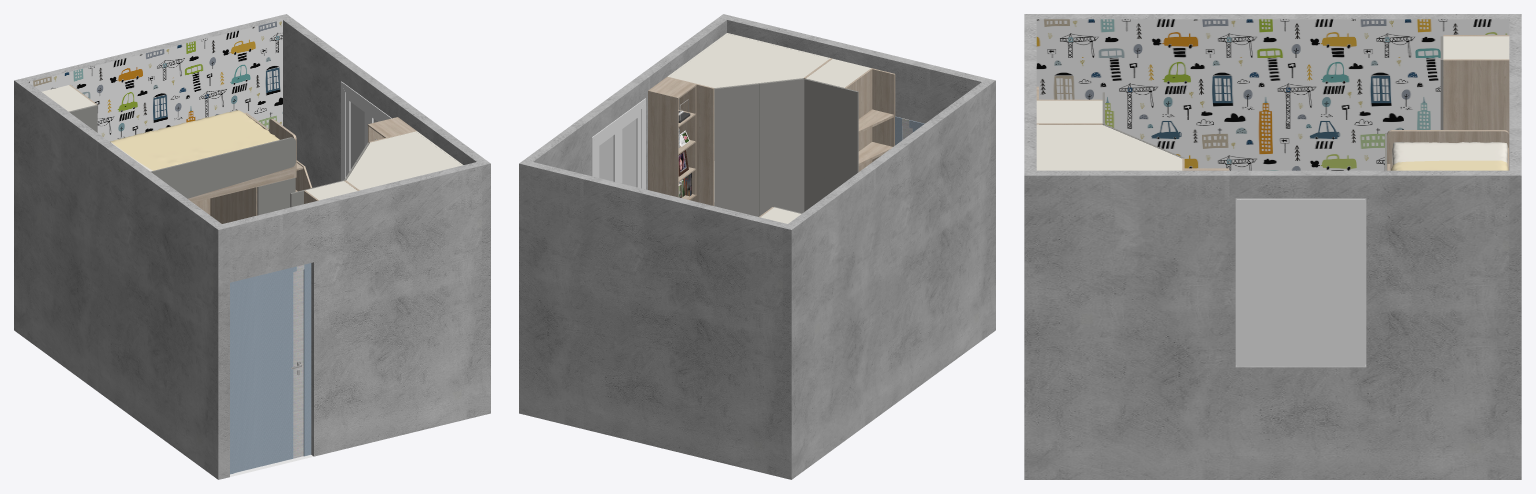
3 renders of one model, left to right at view 1: azimuth 30°, elevation 25°; view 2: azimuth 150°, elevation 25°; view 3: azimuth 270°, elevation 25°, orthographic. The views are drawn at different scales.
Parts seen in each view (by area): view 1: Mesh3_img1_2_0, Mesh4_img1_3_0, G_0_extern_wall, Mesh10_img5_18_0, Mesh2_img1_1_0, Mesh21_img14_22_0, Mesh20_Color_9_0, Mesh13_Color_15_0, Mesh21_img13_14_0, Mesh6_Color_5_0, Mesh1_img1_0_0, Mesh6_Color_7_0 (+3 smaller); view 2: Mesh1_img1_0_0, Mesh4_img1_3_0, Mesh13_img14_22_0, Mesh3_img1_2_0, Mesh16_img14_22_0, Mesh2_img1_1_0, Mesh13_Color_15_0, Mesh30_img13_14_0, Mesh16_img13_14_0, Mesh14_img13_14_0, Mesh6_Color_5_0, Mesh6_Color_7_0 (+1 smaller); view 3: Mesh2_img1_1_0, G_3_extern_wall, Mesh6_Color_8_0, Mesh21_img13_14_0, Mesh13_Color_15_0, Mesh4_img1_3_0, Mesh20_Color_10_0, Mesh1_img1_0_0, Mesh3_img1_2_0, Mesh21_Color_15_0, Mesh16_Color_15_0, Mesh20_Color_9_0 (+1 smaller).
Part boxes in pixels (x1=…): Mesh3_img1_2_0: x1=218, y1=162, x2=490, y2=479; Mesh4_img1_3_0: x1=14, y1=80, x2=221, y2=479; G_0_extern_wall: x1=28, y1=20, x2=282, y2=141; Mesh10_img5_18_0: x1=230, y1=263, x2=311, y2=474; Mesh2_img1_1_0: x1=283, y1=14, x2=490, y2=187; Mesh21_img14_22_0: x1=69, y1=105, x2=295, y2=215; Mesh20_Color_9_0: x1=110, y1=110, x2=279, y2=170; Mesh13_Color_15_0: x1=346, y1=131, x2=463, y2=190; Mesh21_img13_14_0: x1=69, y1=84, x2=296, y2=223; Mesh6_Color_5_0: x1=341, y1=81, x2=391, y2=180; Mesh1_img1_0_0: x1=14, y1=14, x2=286, y2=81; Mesh6_Color_7_0: x1=350, y1=102, x2=377, y2=169; Mesh1_img1_0_0: x1=519, y1=162, x2=791, y2=479; Mesh4_img1_3_0: x1=788, y1=80, x2=995, y2=479; Mesh13_img14_22_0: x1=714, y1=78, x2=804, y2=216; Mesh3_img1_2_0: x1=723, y1=14, x2=995, y2=123; Mesh16_img14_22_0: x1=804, y1=78, x2=858, y2=211; Mesh2_img1_1_0: x1=519, y1=14, x2=726, y2=189; Mesh13_Color_15_0: x1=668, y1=33, x2=830, y2=205; Mesh30_img13_14_0: x1=648, y1=77, x2=696, y2=199; Mesh16_img13_14_0: x1=845, y1=68, x2=895, y2=171; Mesh14_img13_14_0: x1=667, y1=76, x2=714, y2=205; Mesh6_Color_5_0: x1=591, y1=98, x2=645, y2=189; Mesh6_Color_7_0: x1=599, y1=119, x2=636, y2=186; Mesh2_img1_1_0: x1=1024, y1=170, x2=1521, y2=479; G_3_extern_wall: x1=1036, y1=19, x2=1509, y2=170; Mesh6_Color_8_0: x1=1237, y1=199, x2=1364, y2=366; Mesh21_img13_14_0: x1=1387, y1=59, x2=1509, y2=170; Mesh13_Color_15_0: x1=1036, y1=124, x2=1182, y2=170; Mesh4_img1_3_0: x1=1025, y1=14, x2=1520, y2=19; Mesh20_Color_10_0: x1=1392, y1=142, x2=1507, y2=165; Mesh1_img1_0_0: x1=1509, y1=14, x2=1521, y2=175; Mesh3_img1_2_0: x1=1024, y1=14, x2=1036, y2=175; Mesh21_Color_15_0: x1=1443, y1=36, x2=1509, y2=59; Mesh16_Color_15_0: x1=1036, y1=100, x2=1102, y2=123; Mesh20_Color_9_0: x1=1391, y1=160, x2=1508, y2=170.
Bounding box in the file's own units: 3.43 × 3 × 4.44.
50 materials, 28 textured.
